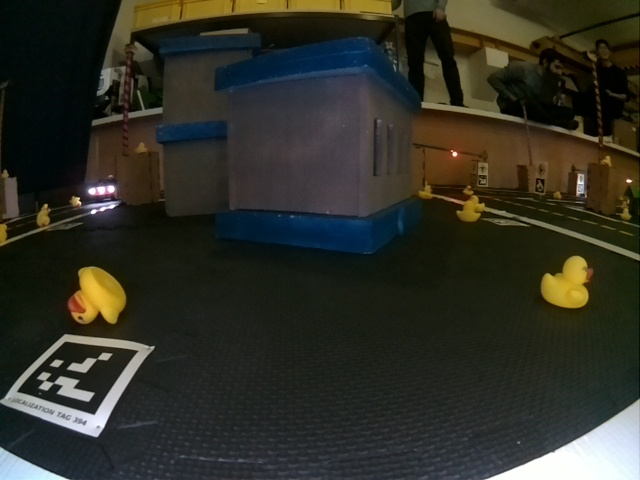Duckie: (69, 268, 126, 323), (543, 257, 591, 308), (458, 202, 480, 222), (37, 210, 51, 226), (420, 185, 433, 198), (70, 196, 80, 206), (463, 186, 472, 195), (602, 156, 611, 165), (623, 209, 631, 219), (135, 143, 145, 151)
Duckiebot: (87, 179, 118, 200)
Intersection sign: (536, 165, 545, 174), (478, 164, 487, 173)
QR code: (4, 335, 143, 432), (486, 217, 529, 226), (535, 179, 544, 192), (478, 176, 487, 184)
